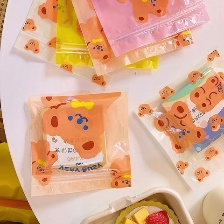snack: (7, 0, 214, 93), (127, 44, 224, 201), (23, 86, 135, 203)
